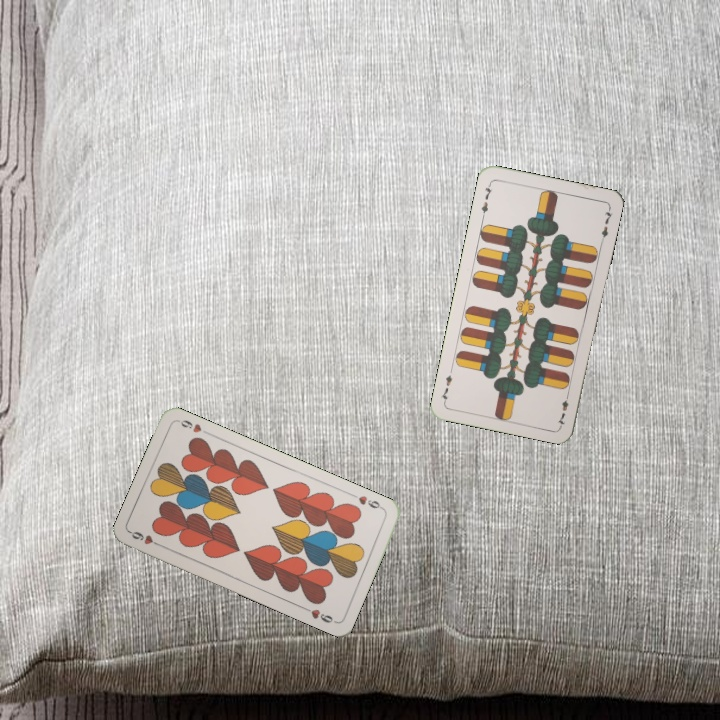E7: (553, 388, 572, 428), (477, 179, 495, 219)
H9: (348, 490, 386, 513), (127, 527, 165, 549)
